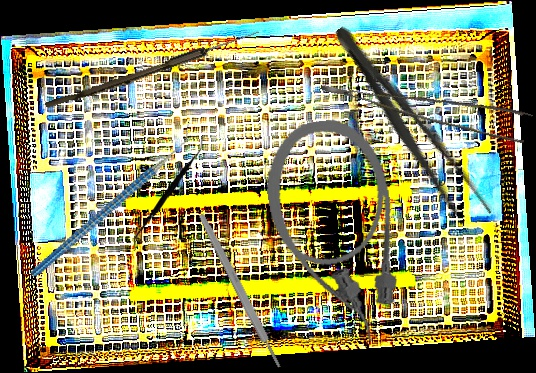Cannula: (257, 112, 412, 354)
Chopper: (0, 122, 223, 278)
Dressing Forceps: (322, 17, 498, 232)
Scalpel Handle: (196, 212, 284, 370)
Spatula Surgical: (133, 133, 204, 255)
Surgical Spoon: (44, 25, 262, 114)
Tissue Forceps: (320, 50, 533, 154)
